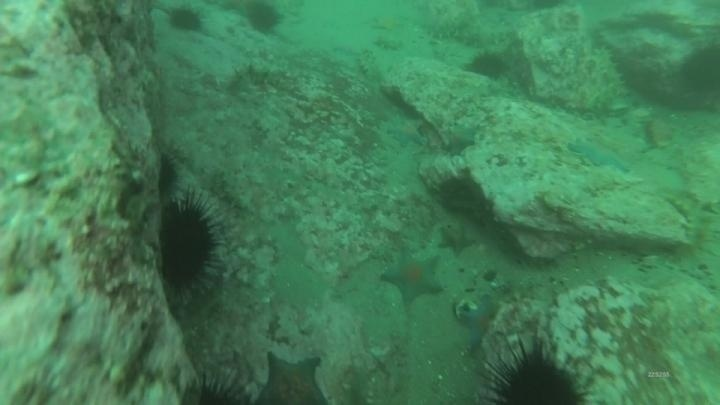echinus: (478, 339, 590, 404), (156, 196, 221, 294), (161, 365, 258, 404), (678, 41, 720, 97), (434, 173, 483, 216), (465, 49, 510, 82), (153, 150, 182, 201), (243, 2, 284, 36), (165, 5, 206, 36)
holothurian: (663, 189, 719, 259), (424, 16, 515, 50), (215, 58, 306, 92), (586, 44, 630, 104), (335, 355, 384, 405), (215, 160, 256, 216), (487, 276, 554, 308), (356, 47, 387, 90)
starfish: (253, 351, 330, 405), (379, 250, 446, 307), (455, 295, 501, 352), (567, 137, 633, 174), (435, 222, 477, 257), (384, 115, 428, 148), (440, 121, 481, 156)
